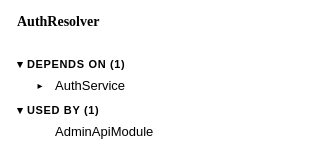
Scenario: DependencyTree › collapses a section when its toggle is clicked
Click the button "▾ Depends on (1)" at (69, 64), box [17,50,317,75]
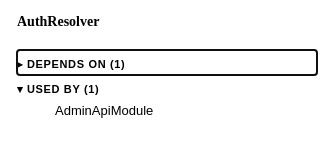
Result: the button "▸ Depends on (1)" is shown at [17,50,317,75]
Result: the button "AuthService" is gone
